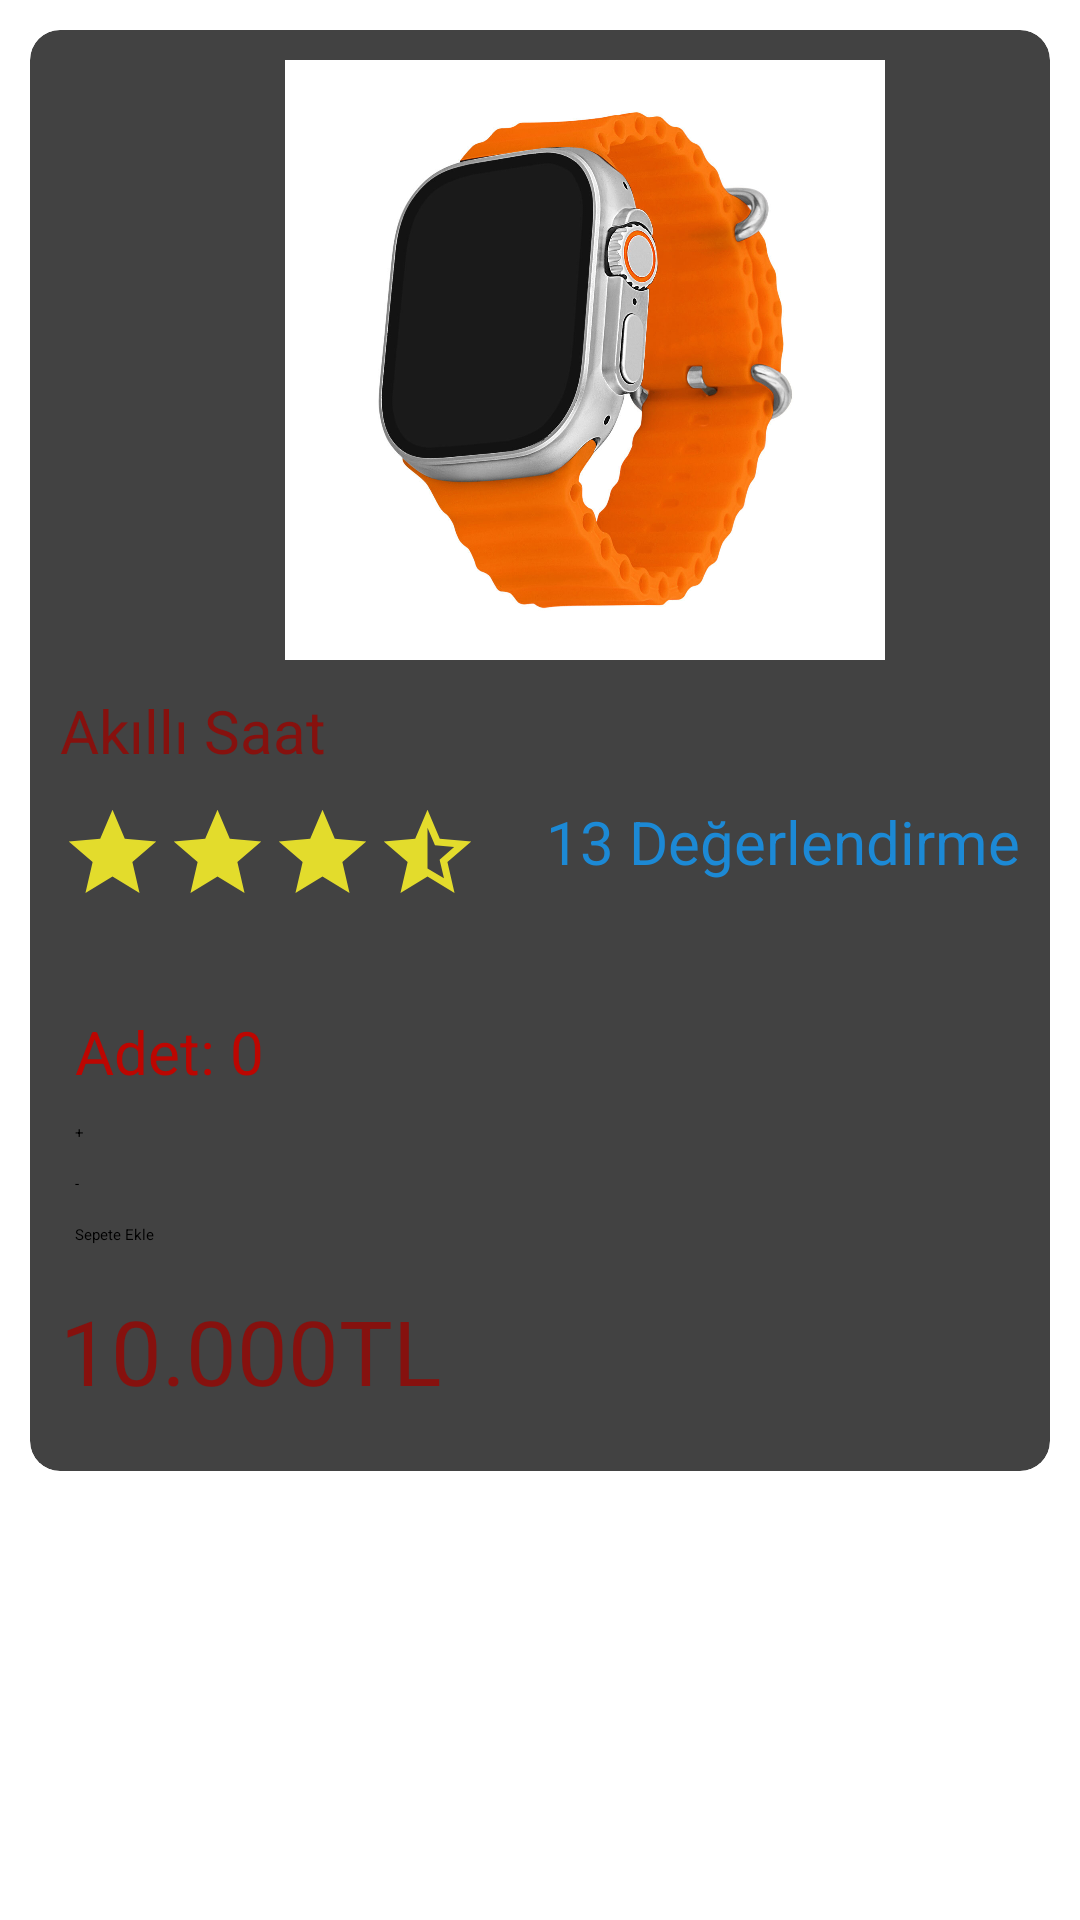

Named icons in this screenshot (1080w x 1920h) and their bounding boxes, (x1, y1, x2, y2):
star: (69, 810, 156, 893), (174, 810, 261, 893), (279, 810, 366, 893), (384, 810, 471, 893)
